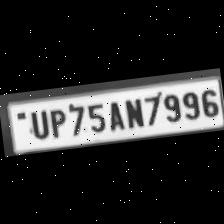5: (82, 99, 108, 133)
6: (196, 86, 219, 119)
7: (62, 102, 86, 137), (138, 91, 162, 126)
9: (158, 90, 182, 124), (178, 88, 202, 122)
A: (104, 97, 126, 132)
N: (120, 95, 144, 130)
P: (44, 105, 68, 138)
U: (23, 107, 50, 141)
